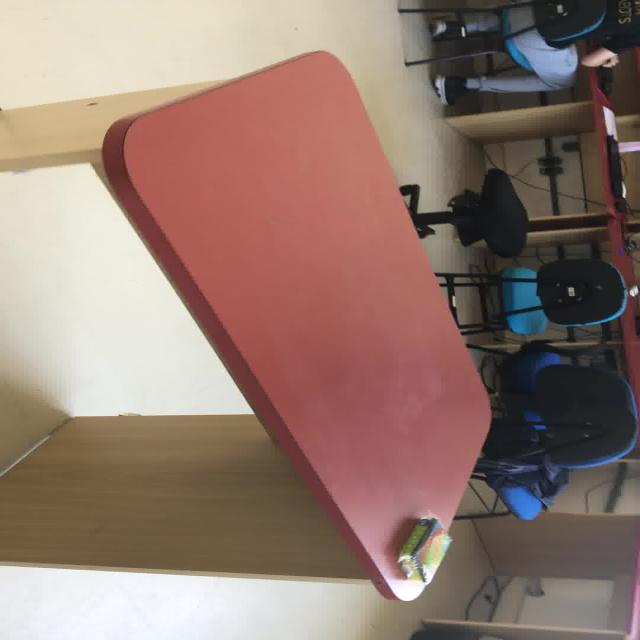sponge: (101, 49, 494, 600), (395, 514, 452, 583)
